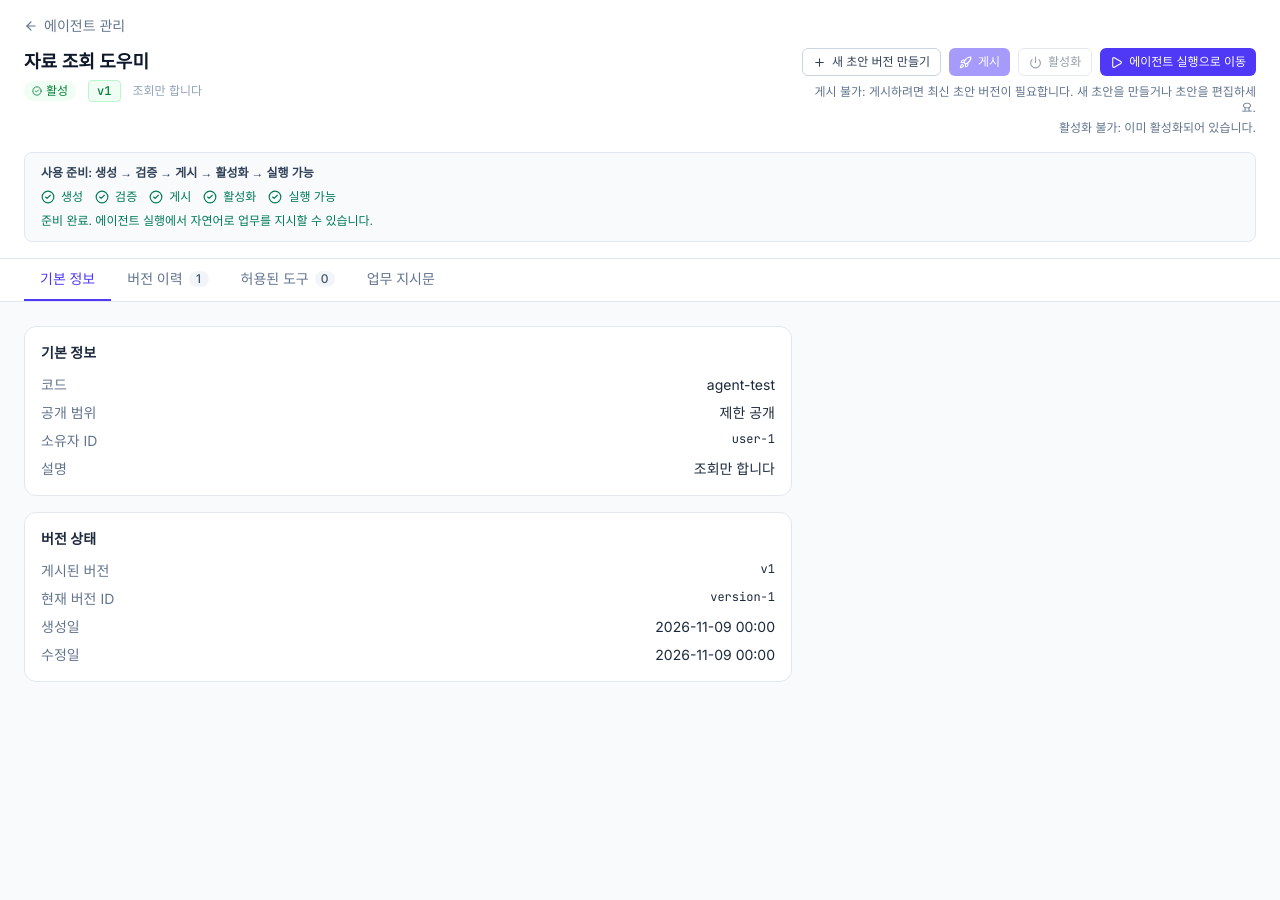
Scenario: Agent detail Korean presentation › renders Korean tabs, labels and instructions without changing the canonical version state
The image size is (1280, 900).
Expected: the heading "자료 조회 도우미" is shown, [24,51,149,72]
Expected: the text "활성" is shown, [24,81,76,101]
Click the button "버전 이력 1": (168, 280) [111,259,225,301]
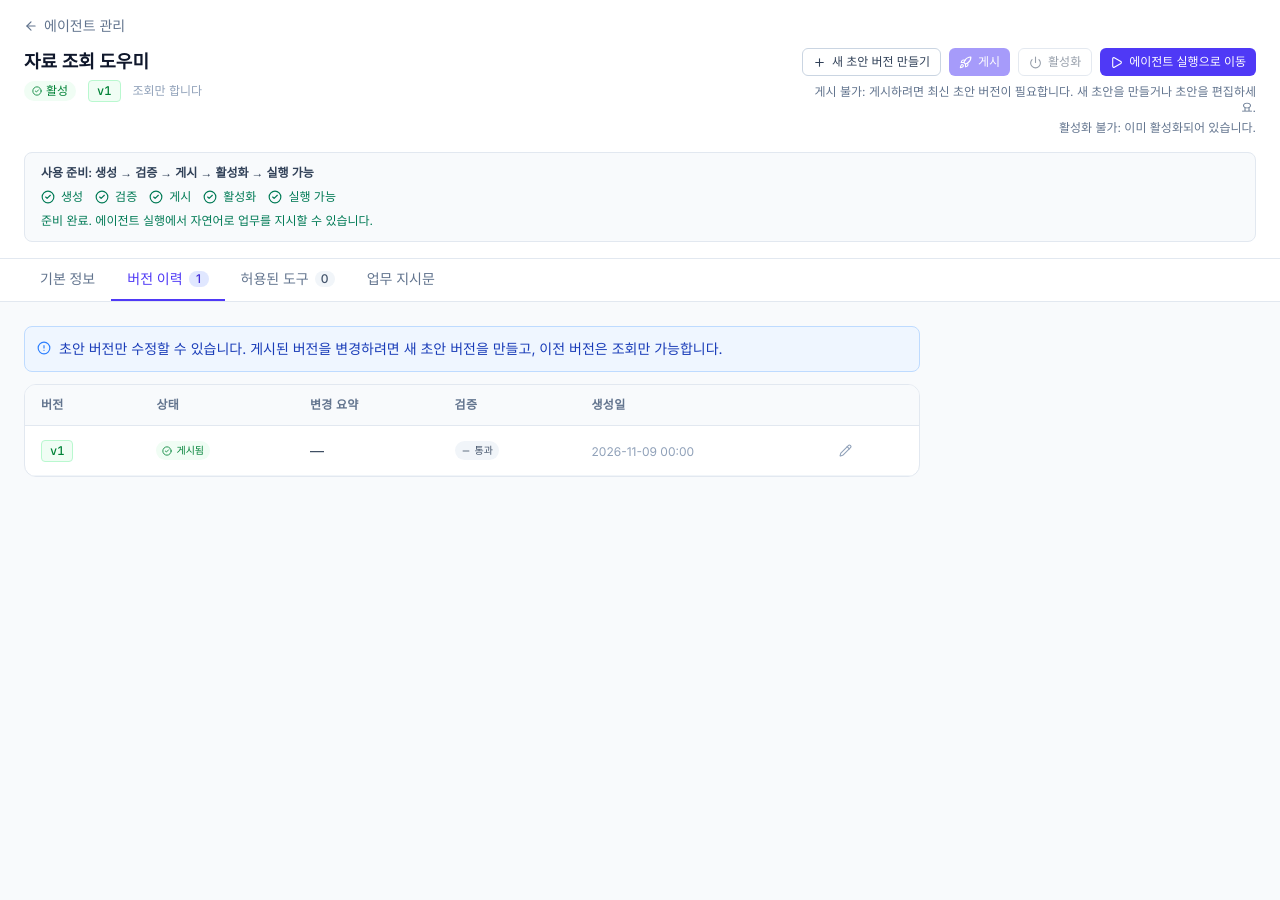
Result: the text "게시됨" is shown at [156,441,210,460]
Click the button "업무 지시문": (401, 280) [351,259,451,301]
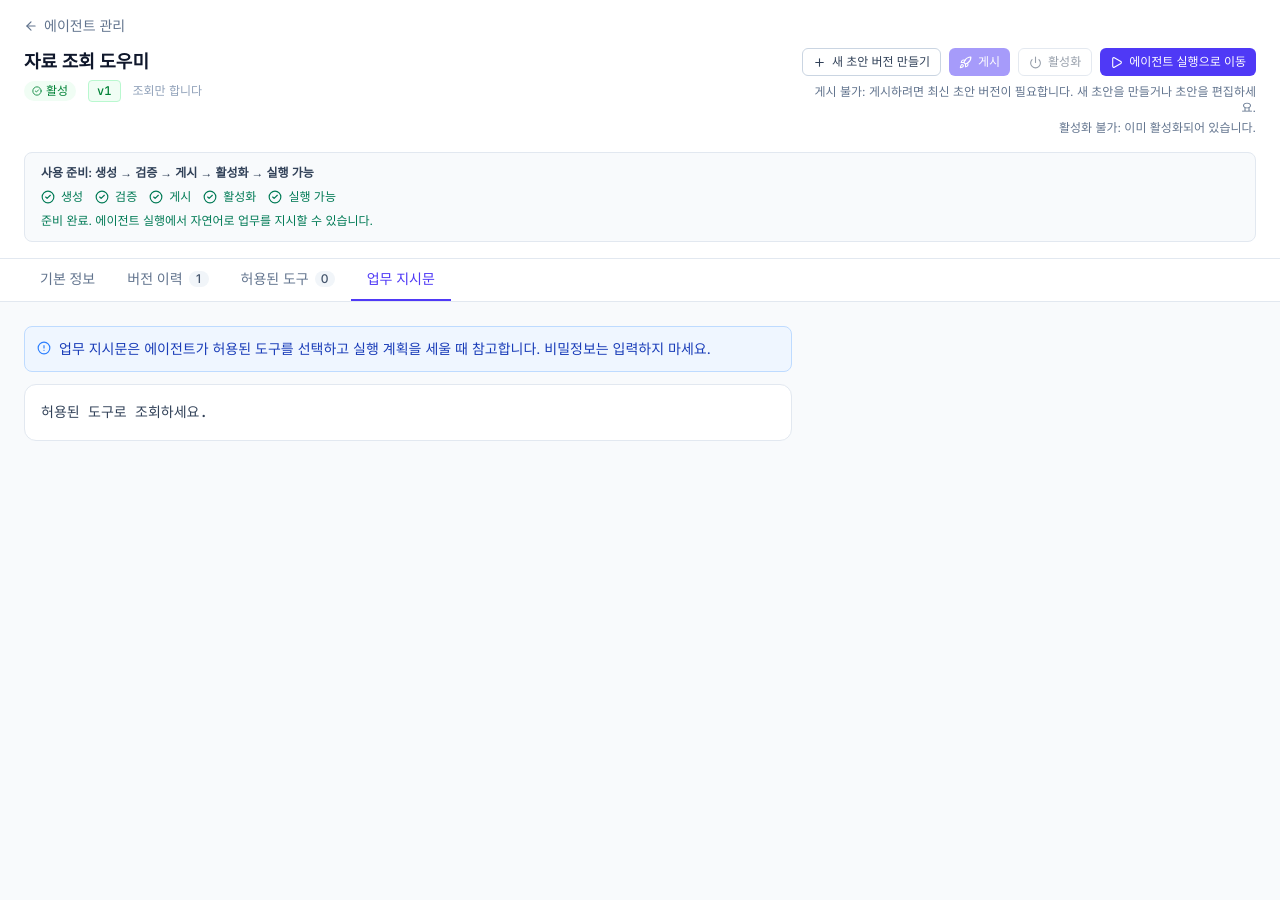
Result: the text "허용된 도구로 조회하세요." is shown at [24,384,792,441]
